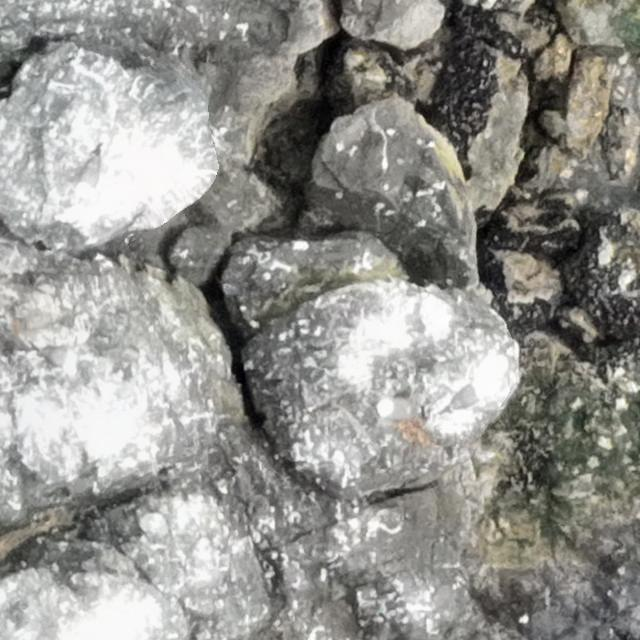umineko: (440, 382, 488, 414), (75, 155, 103, 198), (37, 344, 79, 372), (377, 399, 427, 421)
